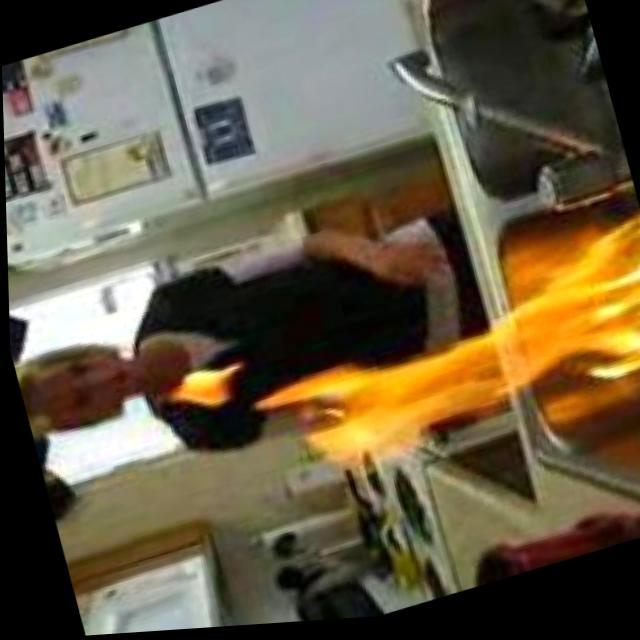fire: (235, 214, 640, 505), (168, 362, 236, 422)
